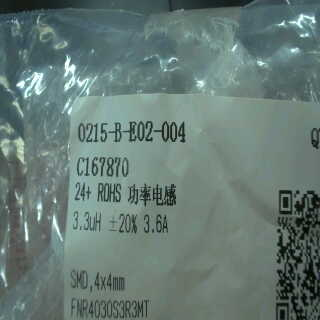3.3uH: (67, 205, 107, 237)
